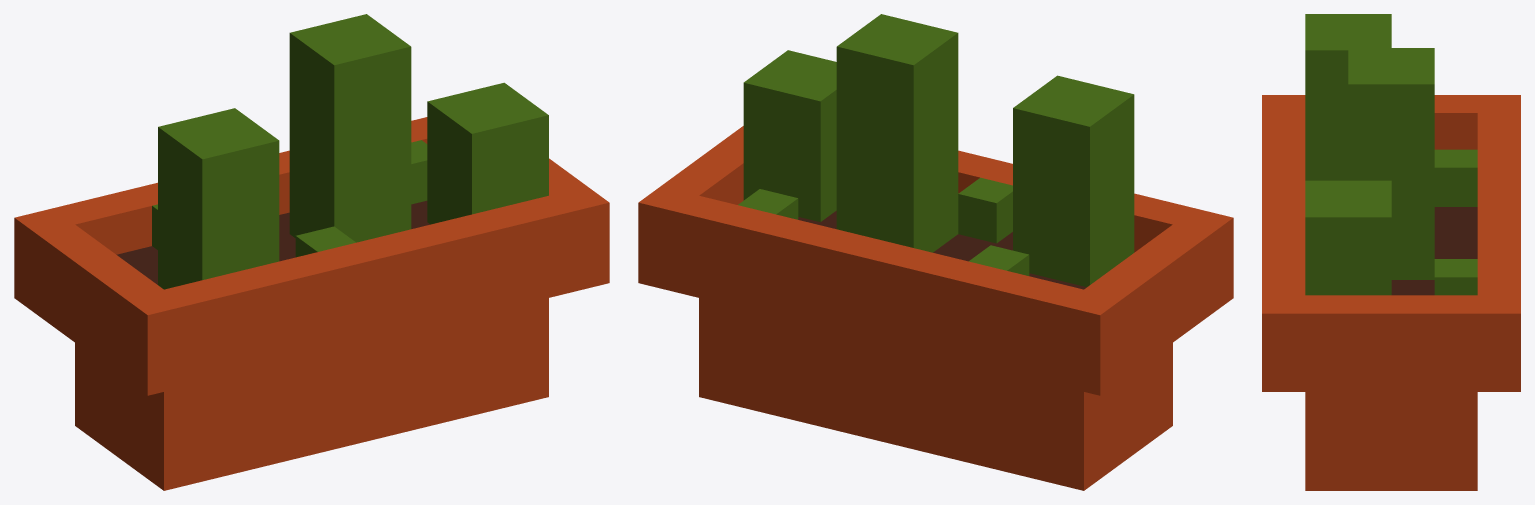
File: plant_03.fbx
The picture shows the model from 3 angles, left to right: view 1: azimuth 30°, elevation 25°; view 2: azimuth 150°, elevation 25°; view 3: azimuth 270°, elevation 25°; orthographic projection. The views are drawn at different scales.
Parts seen in each view (by area): view 1: Untitled; view 2: Untitled; view 3: Untitled.
Part boxes in pixels (x1,y1,x2,y2): Untitled: (14, 14, 609, 490); Untitled: (638, 14, 1233, 490); Untitled: (1262, 14, 1520, 490).
Size of the model in its own units: 36 by 27 by 18.
1 material, 1 textured.
